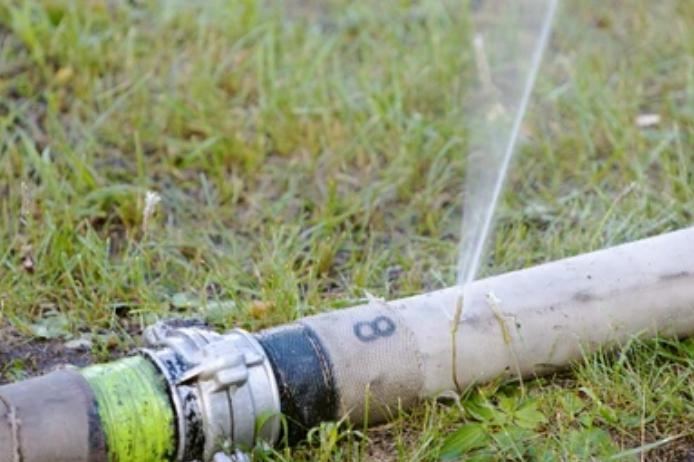pipe burst: (443, 0, 562, 321)
